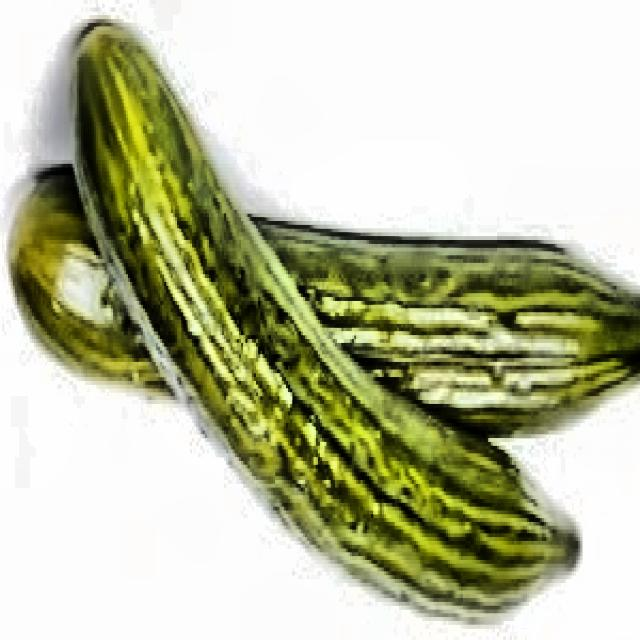Vegetable: (9, 0, 632, 640)
